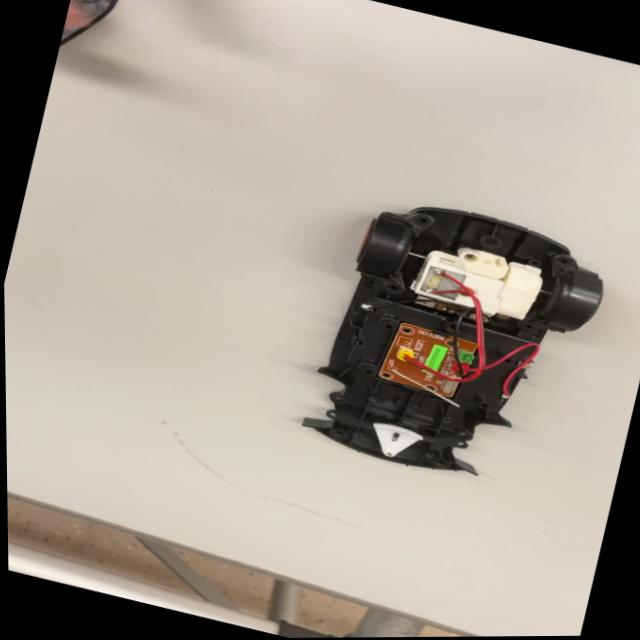Chassis: (297, 184, 594, 500)
